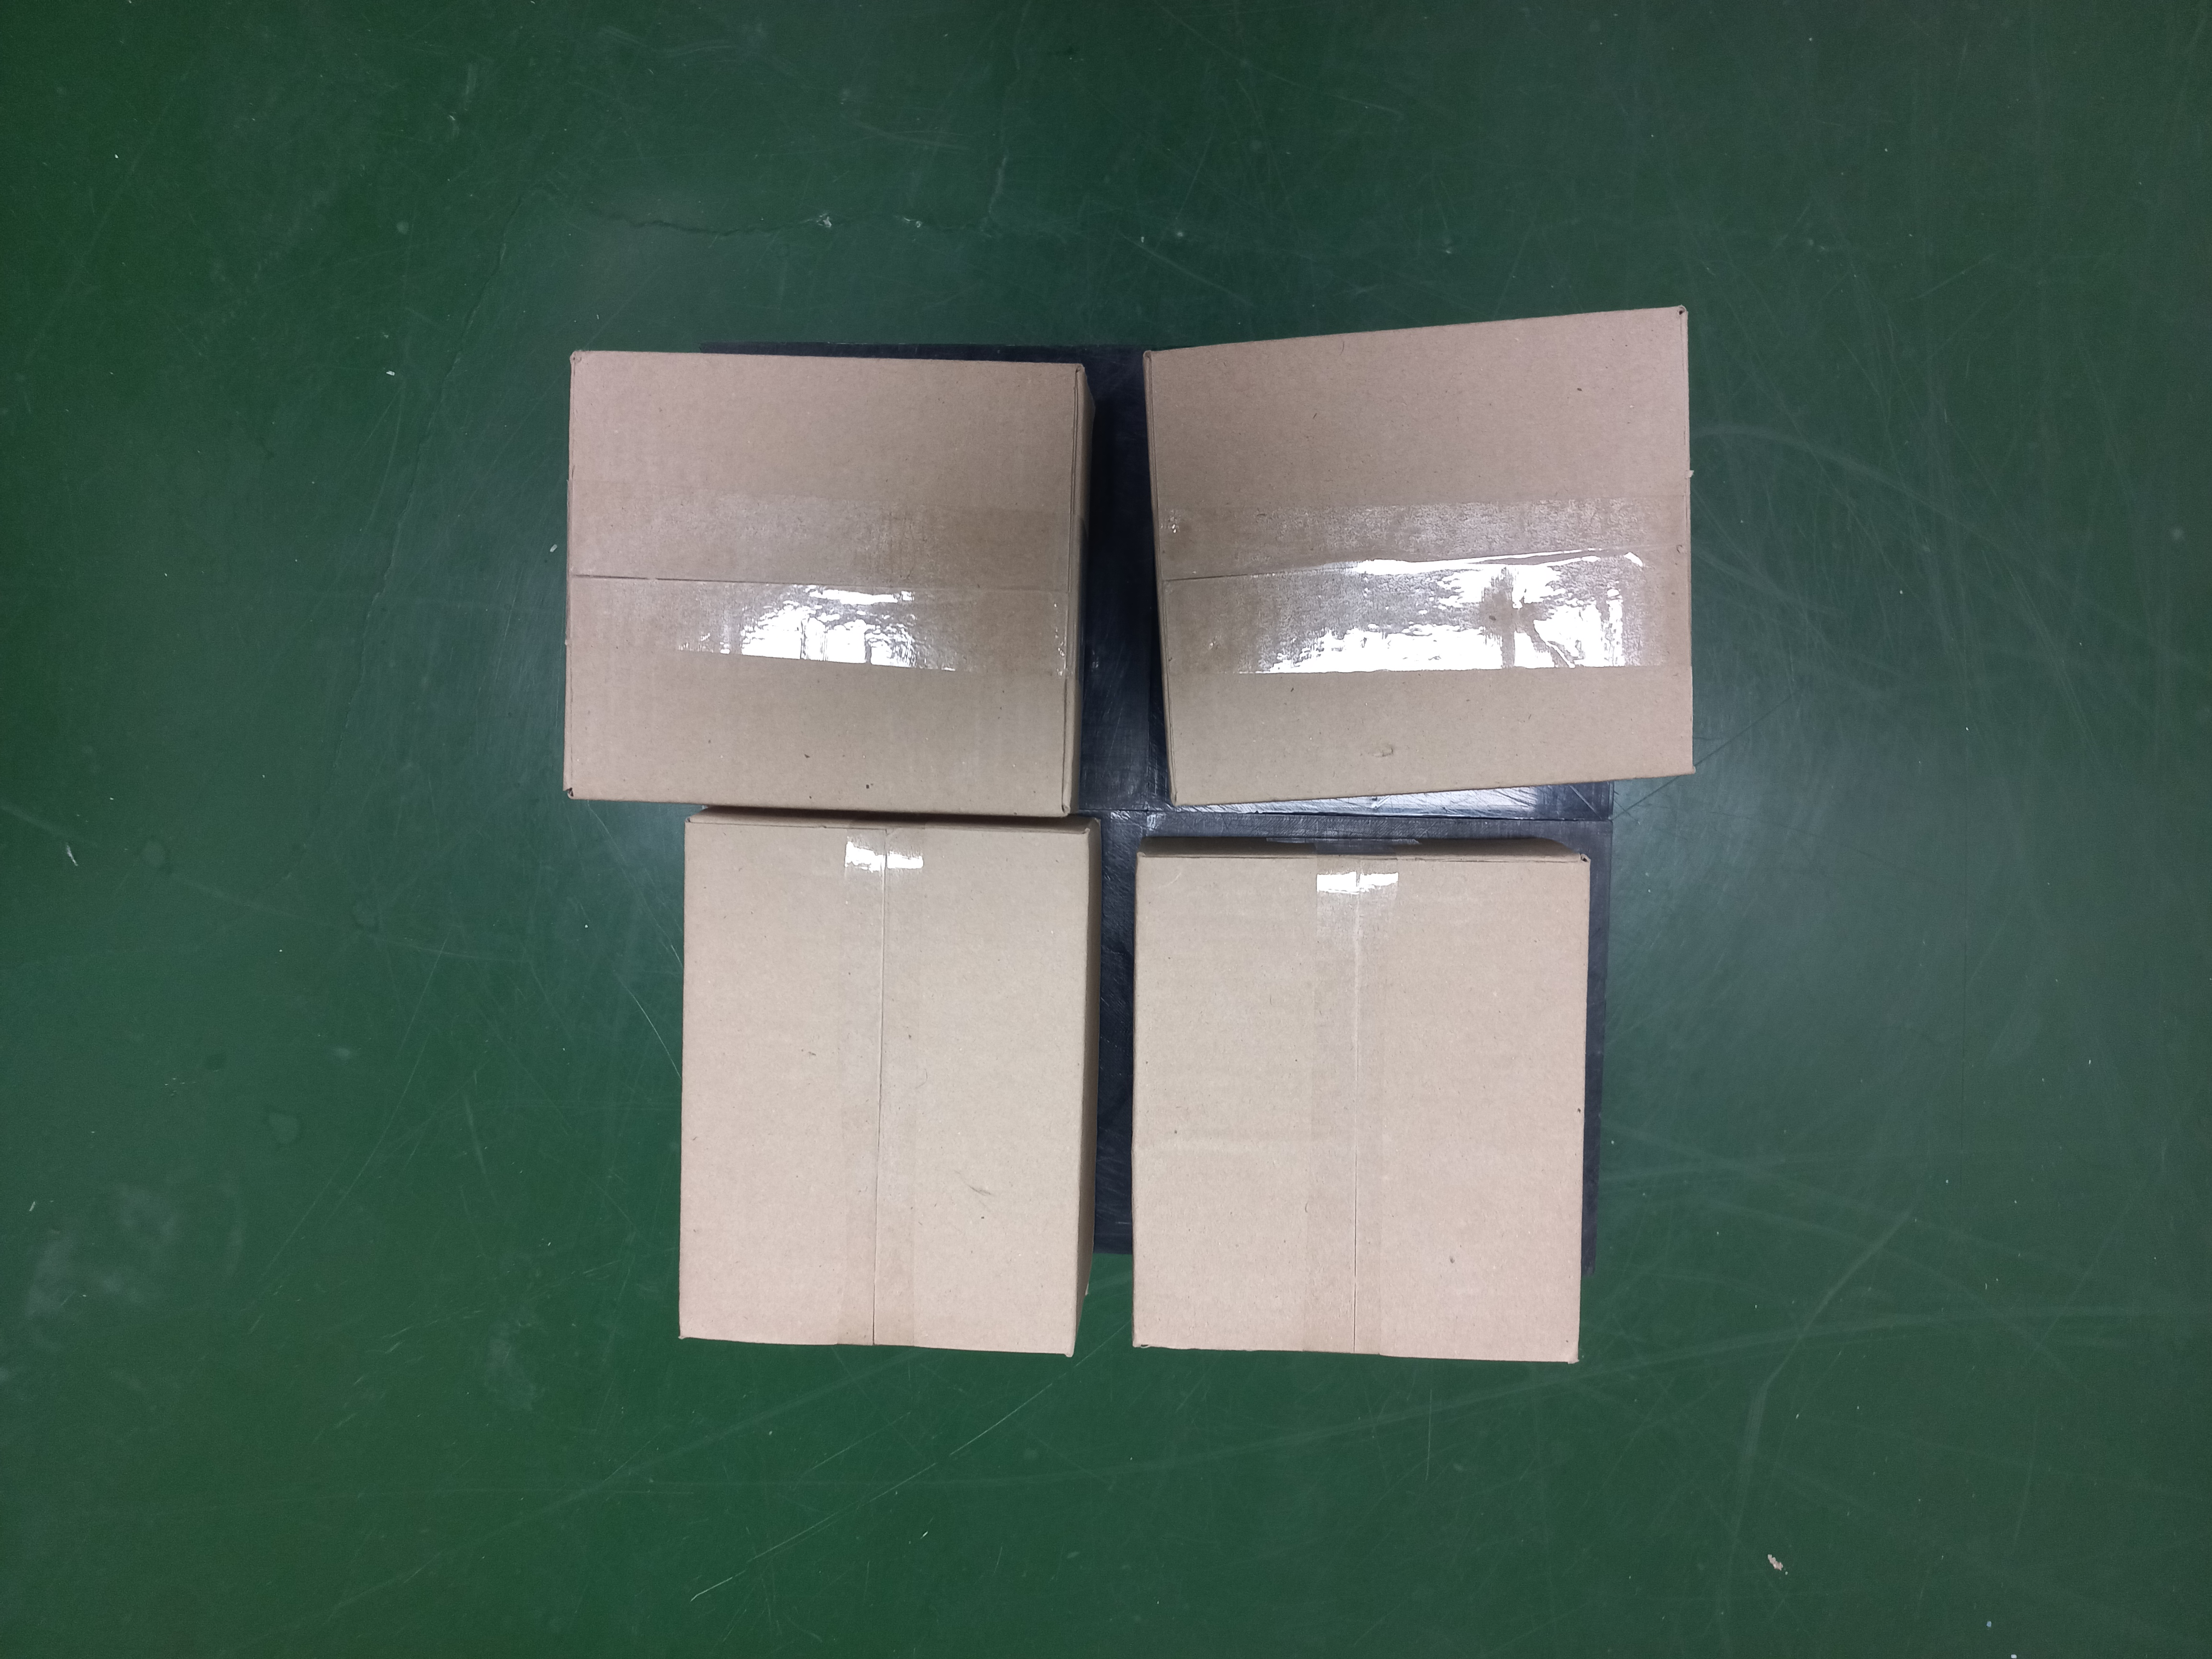box: (1143, 305, 1696, 812), (559, 342, 1090, 823), (1125, 835, 1595, 1368), (676, 809, 1101, 1359)
